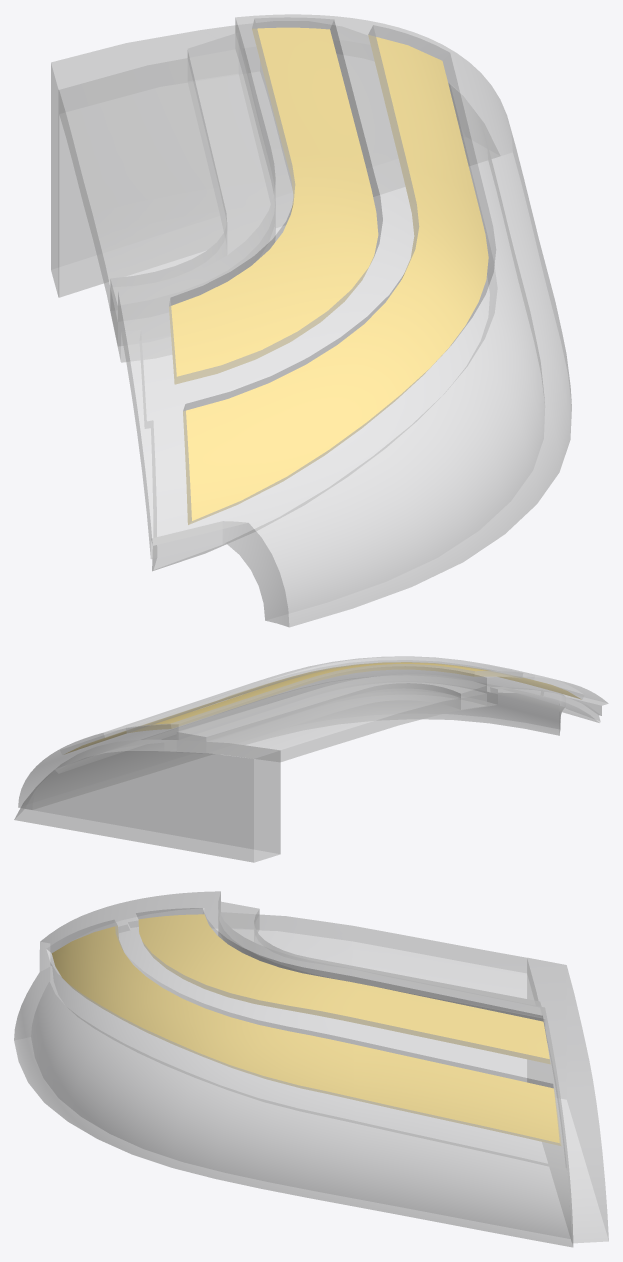
Rendered from 镜向双翼1.fbx.
3 views of the same model, one above another, from view 1: azimuth 30°, elevation 25°; view 2: azimuth 150°, elevation 25°; view 3: azimuth 270°, elevation 25° (orthographic). The views are drawn at different scales.
Visible parts, largest first — view 1: <__>-<__-__1> (×2), <__>-<__8> (×2); view 2: <__>-<__-__1> (×2), <__>-<__8> (×2); view 3: <__>-<__-__1> (×2), <__>-<__8> (×2).
Boxes of the visible parts, x1=… form: <__>-<__-__1> (×2): x1=59, y1=14, x2=571, y2=627; <__>-<__8> (×2): x1=51, y1=21, x2=499, y2=346; <__>-<__-__1> (×2): x1=18, y1=656, x2=608, y2=809; <__>-<__8> (×2): x1=14, y1=674, x2=486, y2=862; <__>-<__-__1> (×2): x1=14, y1=891, x2=573, y2=1247; <__>-<__8> (×2): x1=218, y1=901, x2=608, y2=1243.
Size of the model in its own units: 233 by 240 by 66.03.
